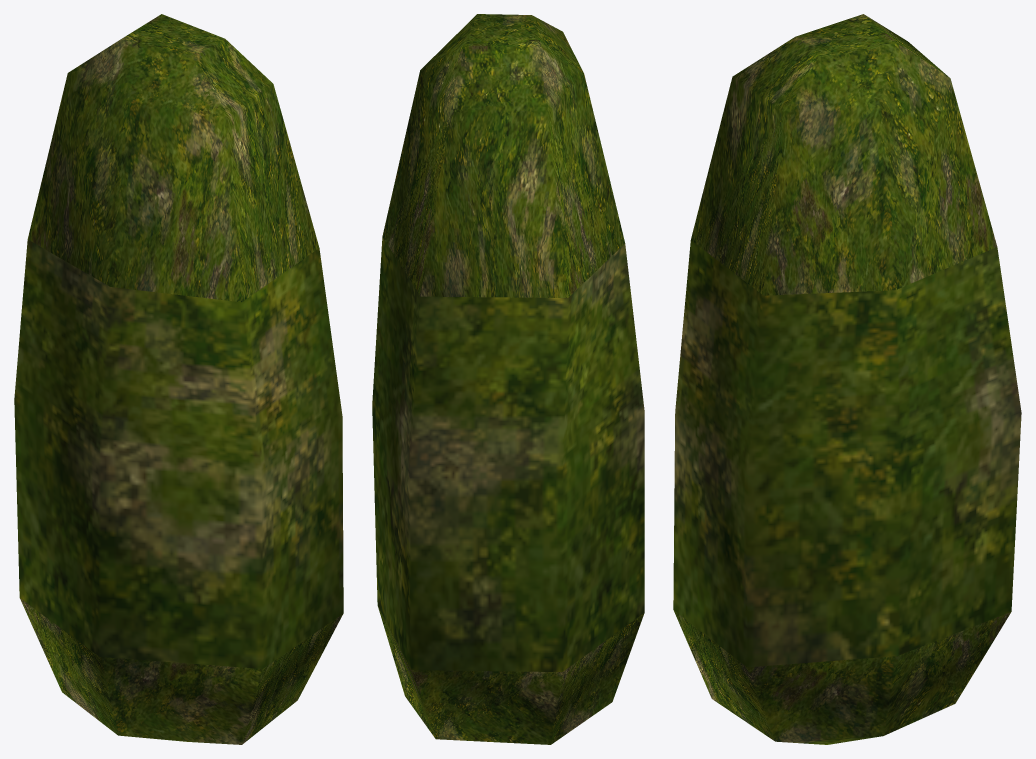
Rendered from OVERHILL_A_01_ROCK_BRIDGE05.fbx.
3 views of the same model, side by side, from view 1: azimuth 30°, elevation 25°; view 2: azimuth 150°, elevation 25°; view 3: azimuth 270°, elevation 25° (orthographic).
Visible parts, largest first — view 1: OVERHILL_A_01_ROCK_BRIDGE05; view 2: OVERHILL_A_01_ROCK_BRIDGE05; view 3: OVERHILL_A_01_ROCK_BRIDGE05.
Boxes of the visible parts, left/top/right/bottom form: OVERHILL_A_01_ROCK_BRIDGE05: left=14, top=14, right=343, bottom=744; OVERHILL_A_01_ROCK_BRIDGE05: left=372, top=14, right=644, bottom=744; OVERHILL_A_01_ROCK_BRIDGE05: left=673, top=14, right=1021, bottom=744.
Bounding box in the file's own units: 17473 × 49641 × 22896.
Materials: 1 (1 with a texture image).
